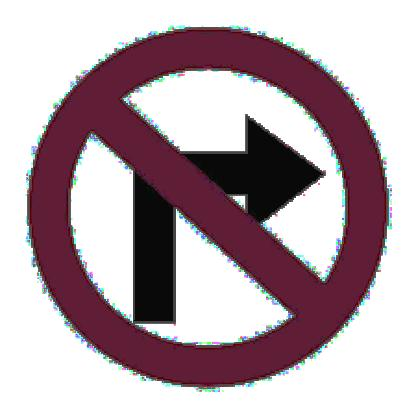No right turn: (23, 32, 392, 384)
